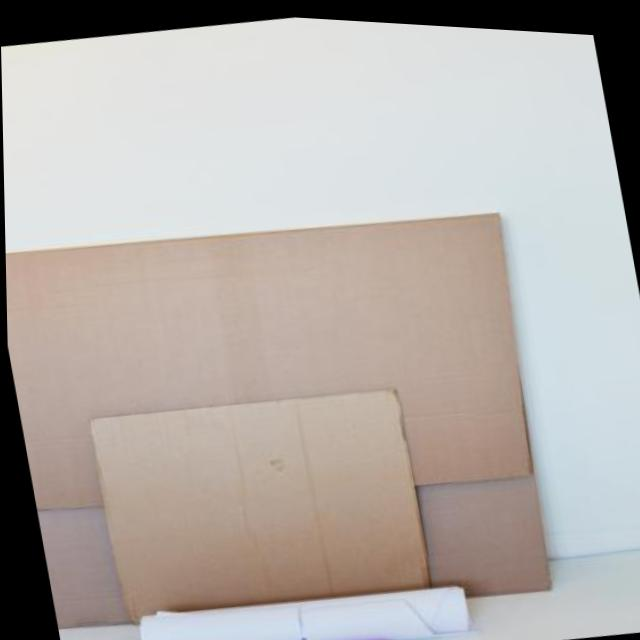box: (3, 160, 580, 640)
